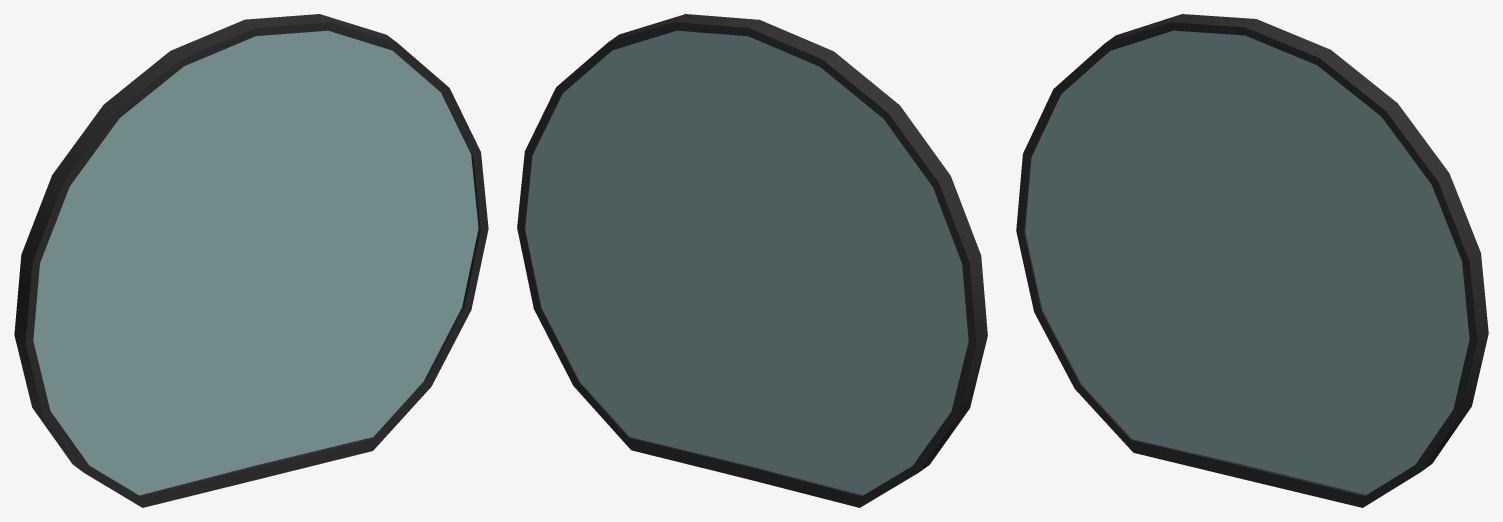
Rendered from puerta.FBX.
3 renders of one model, left to right at view 1: azimuth 30°, elevation 25°; view 2: azimuth 150°, elevation 25°; view 3: azimuth 330°, elevation 25°, orthographic.
Parts seen in each view (by area): view 1: Box001, Cylinder001; view 2: Box001, Cylinder001; view 3: Box001, Cylinder001.
Part boxes in pixels (bbox=[...]): Box001: bbox=[33, 30, 478, 495]; Cylinder001: bbox=[14, 14, 488, 507]; Box001: bbox=[525, 30, 968, 495]; Cylinder001: bbox=[517, 14, 987, 507]; Box001: bbox=[1025, 30, 1469, 494]; Cylinder001: bbox=[1016, 14, 1488, 507].
Bounding box in the file's own units: 51.08 × 47.89 × 2.45.
